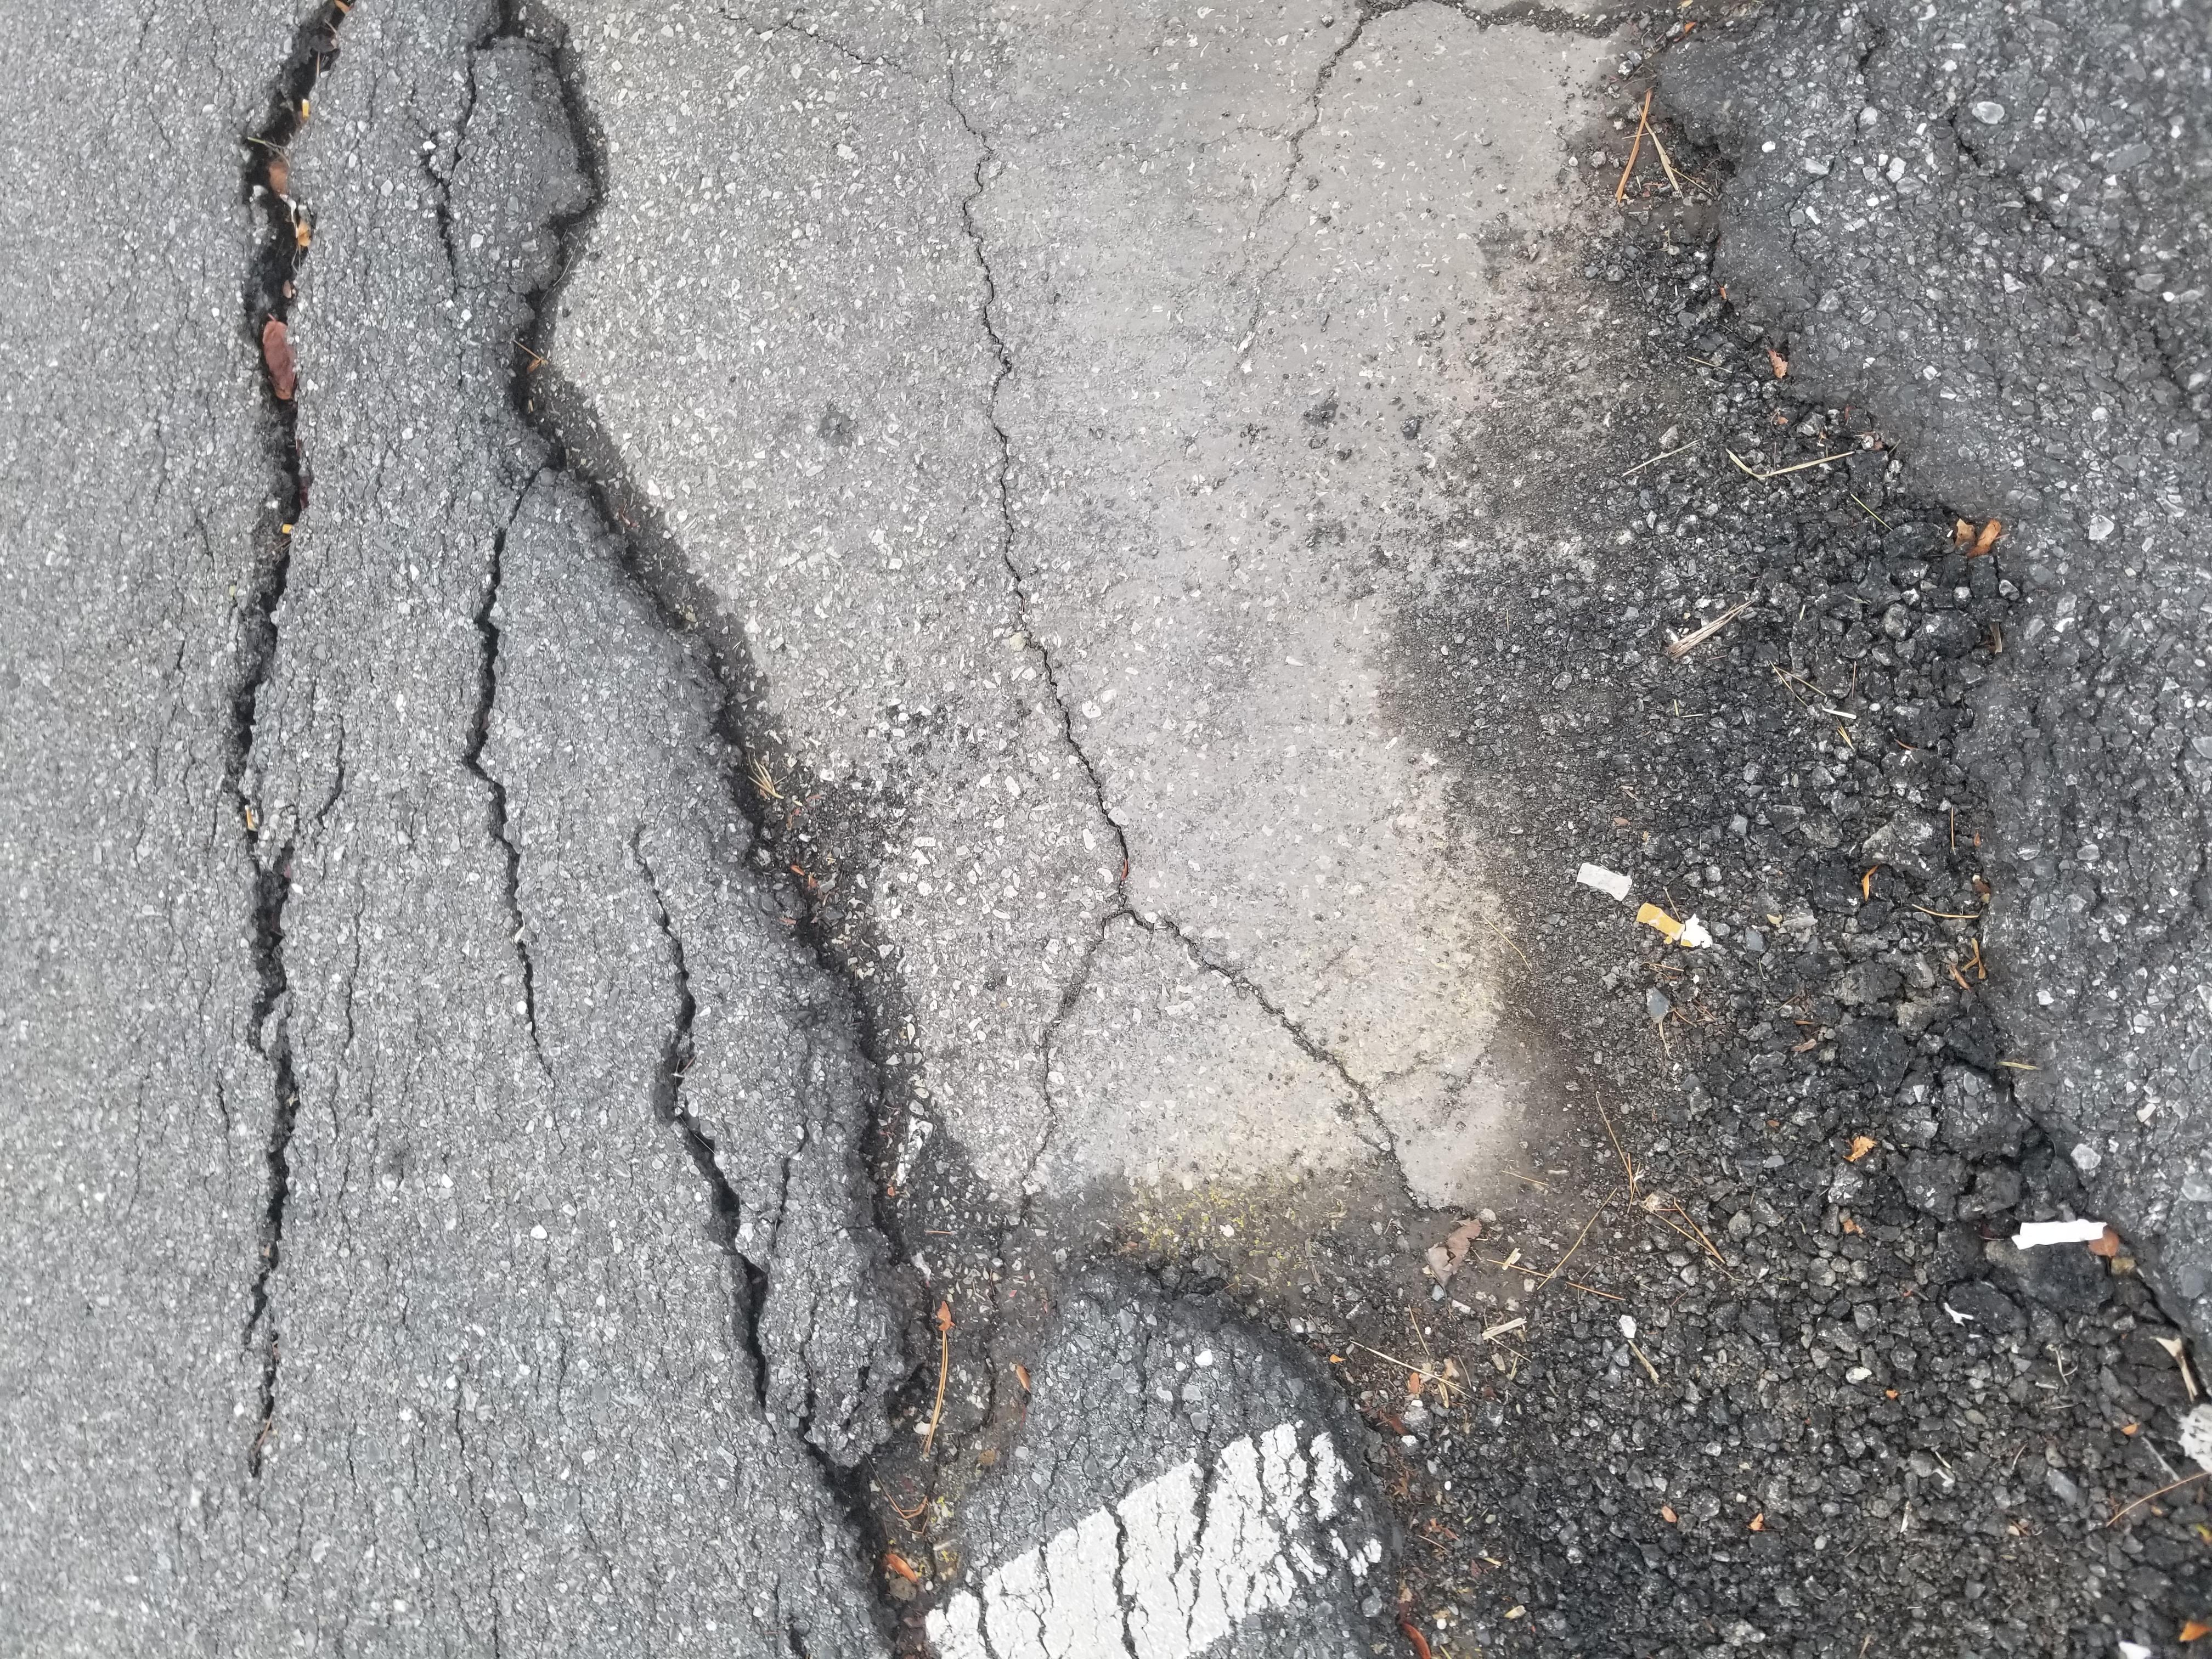crack: (233, 119, 2202, 308)
